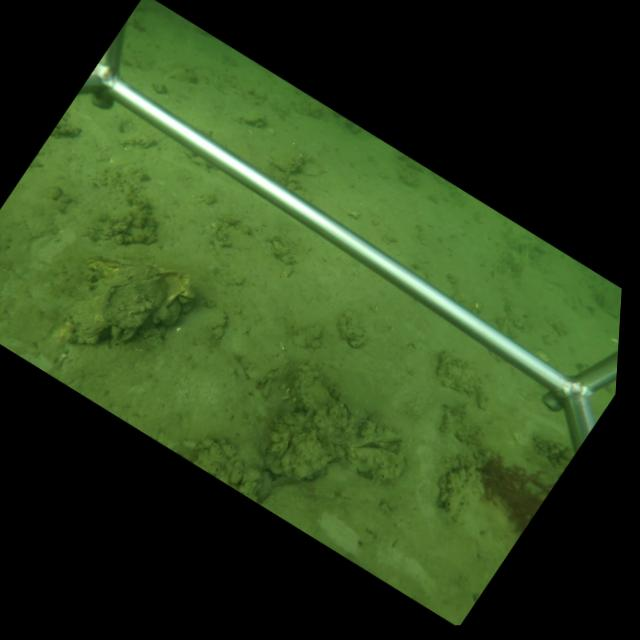Oyster-Closed: (111, 278, 171, 337), (68, 290, 114, 342)
Oyster-Indeterminate: (267, 141, 308, 174), (131, 195, 179, 213)
Oyster-Open: (346, 422, 403, 485)
